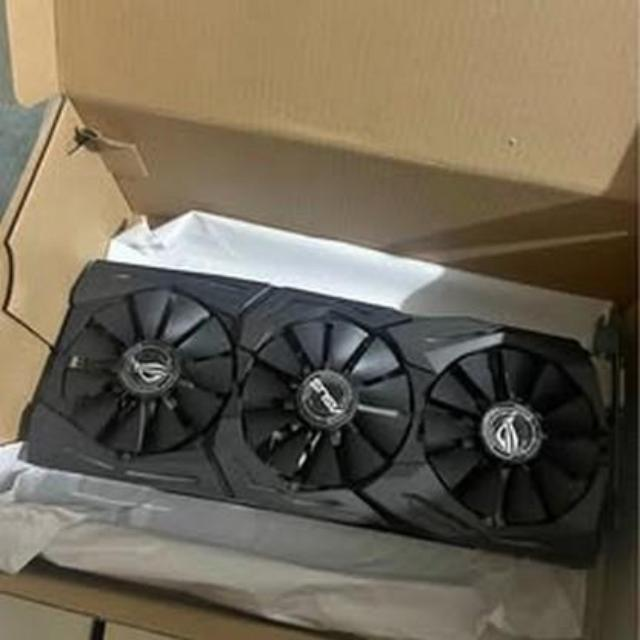GPU: (6, 249, 640, 582)
